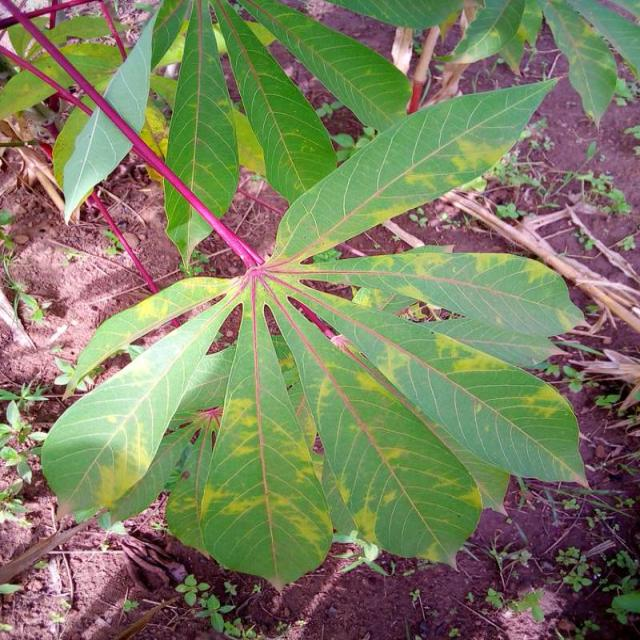cassava leaf: (27, 2, 592, 591), (272, 74, 560, 264)
